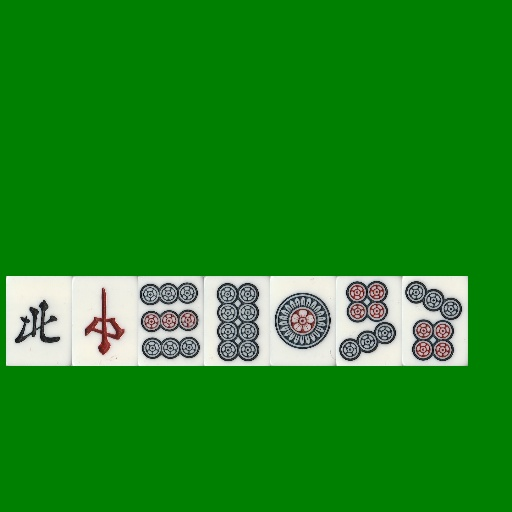1p: (270, 276, 336, 366)
7p: (336, 276, 402, 366), (402, 276, 468, 366)
8p: (204, 276, 270, 366)
9p: (138, 276, 204, 366)
north: (6, 276, 72, 366)
tyun: (72, 276, 138, 366)
